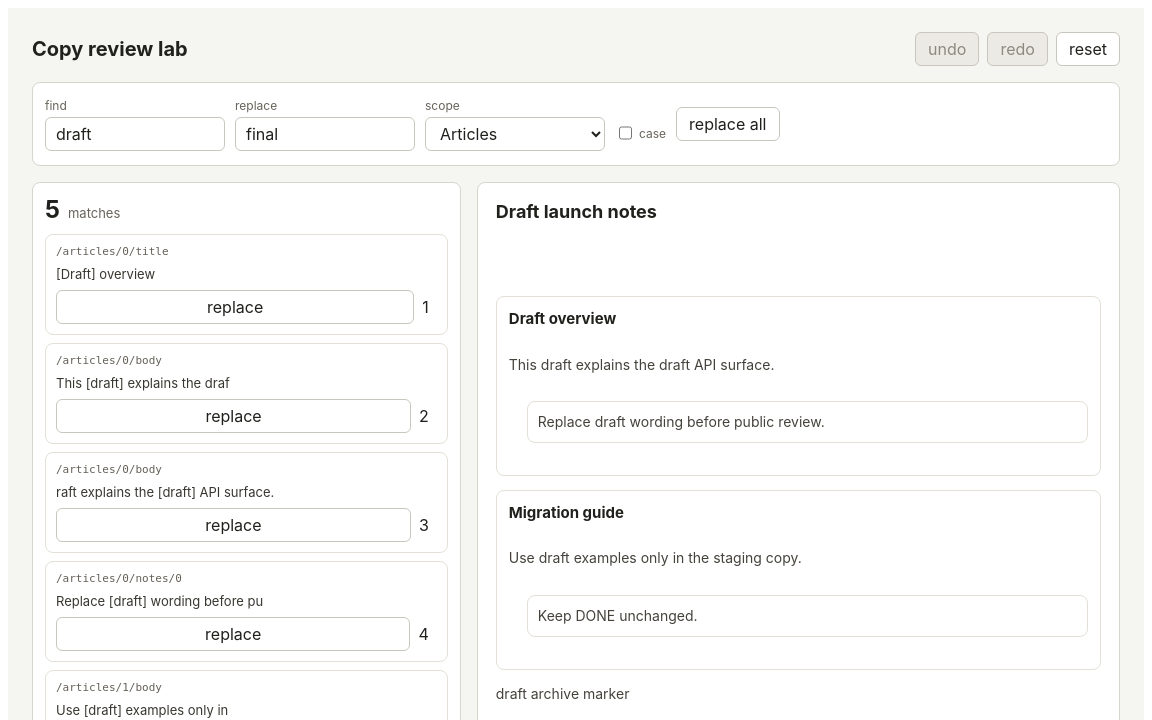
Test: copy review lab dogfood › replaces all matches inside the selected scope only
Click the button "replace all" at (728, 124), box [676,107,780,141]
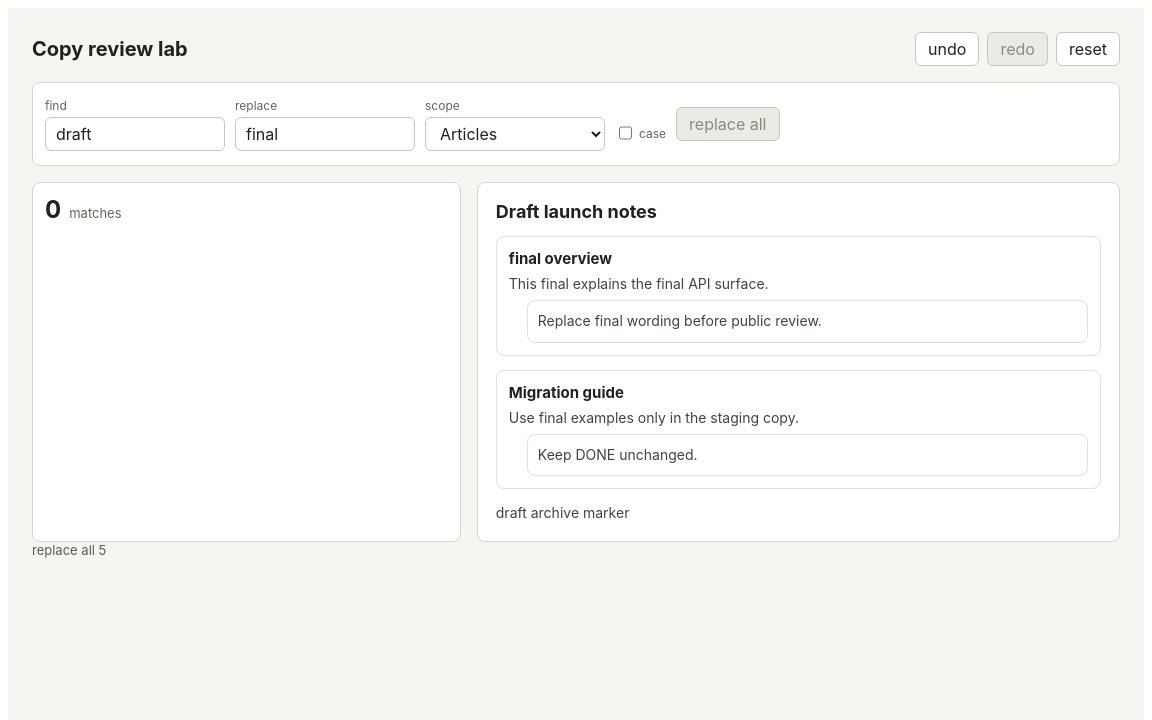
Check: the element named "copy document" shows "final overview", box [509,249,612,268]
Check: the element named "copy document" shows "final API surface", box [509,275,769,292]
Check: the element named "copy document" shows "final examples", box [509,409,799,426]
